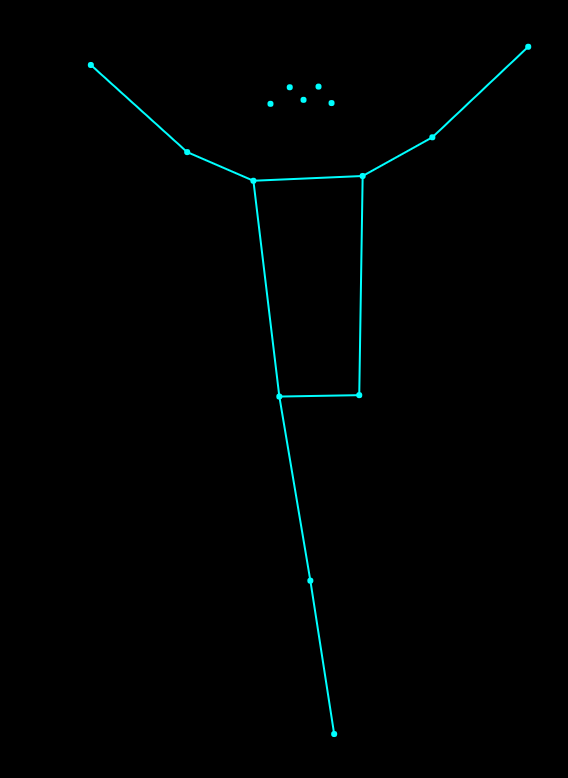tree: (75, 33, 538, 744)
